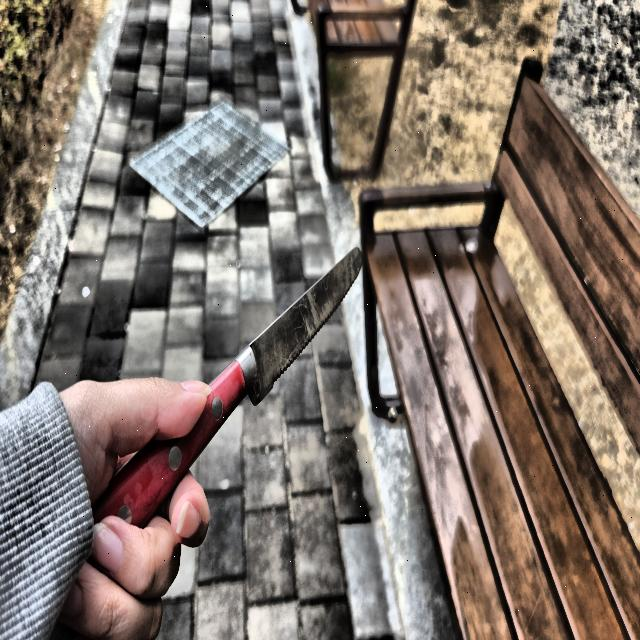knife: (91, 242, 365, 542)
